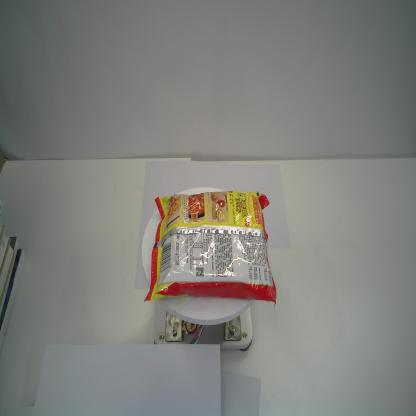Instant Noodles: (144, 191, 276, 309)
